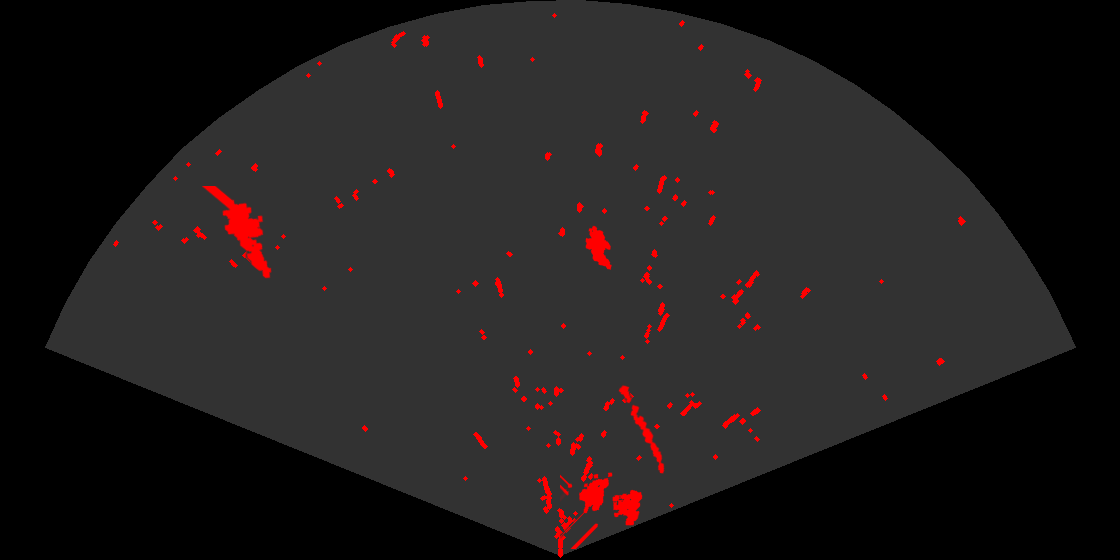AUV: (584, 224, 613, 271)
cage: (560, 471, 644, 549)
chain: (617, 383, 666, 475)
frogman: (202, 186, 273, 280)
